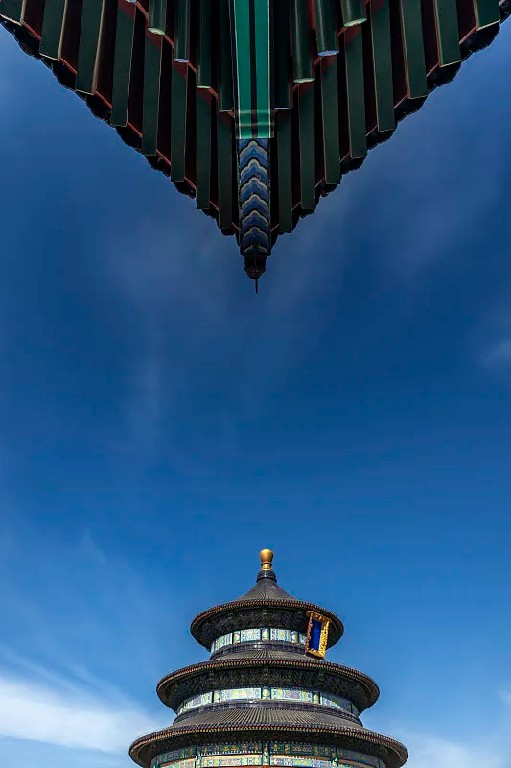Heaven: (129, 549, 409, 768)
